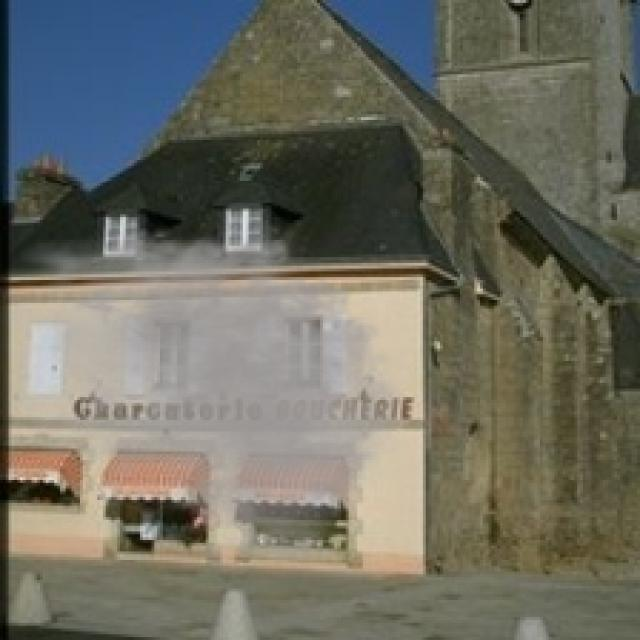Smoke: (9, 212, 432, 574)
